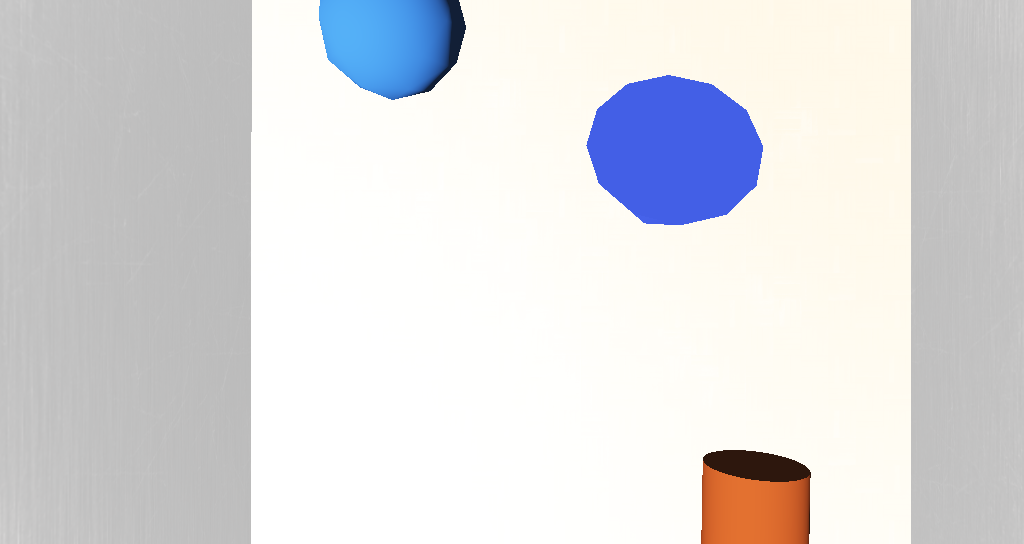cone: (552, 327, 606, 379)
cylinder: (495, 208, 583, 279)
sphere: (394, 167, 455, 215)
